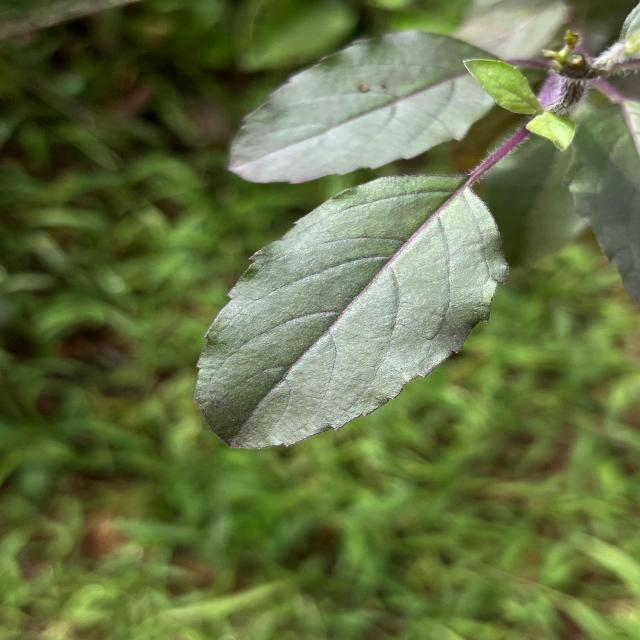Ocimum tenuiflorum: (188, 171, 514, 457)
